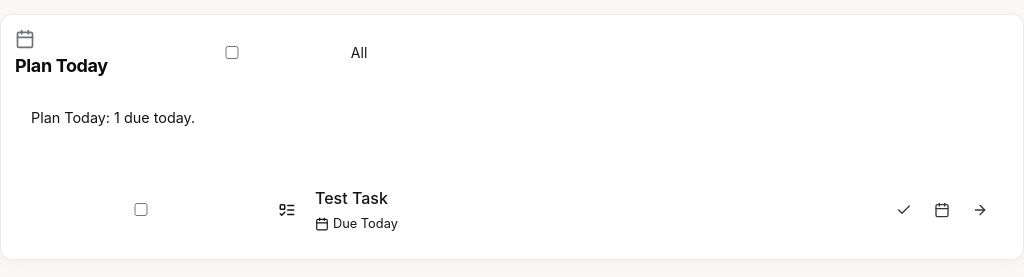
Test case: PlanTodayPanel › clears selection after successful bulk completion
The width and height of the screenshot is (1024, 277).
Click the checkbox named "Select item: Test Task" at (141, 210), box [31,203,251,216]
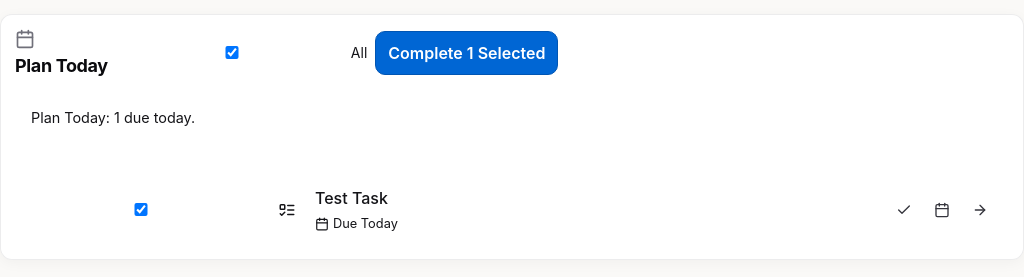
Click the button "Complete 1 Selected" at (467, 53), box [375,31,558,75]
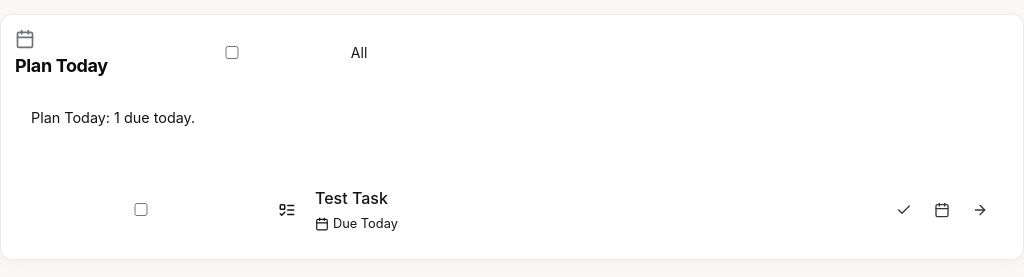
Result: the checkbox named "Select item: Test Task" is not checked at [31,203,251,216]
Result: the button "Complete 1 Selected" is gone
